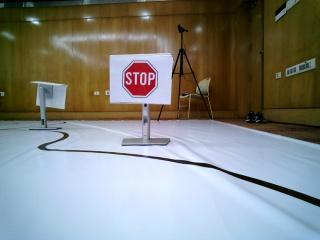stop: (114, 54, 170, 99)
